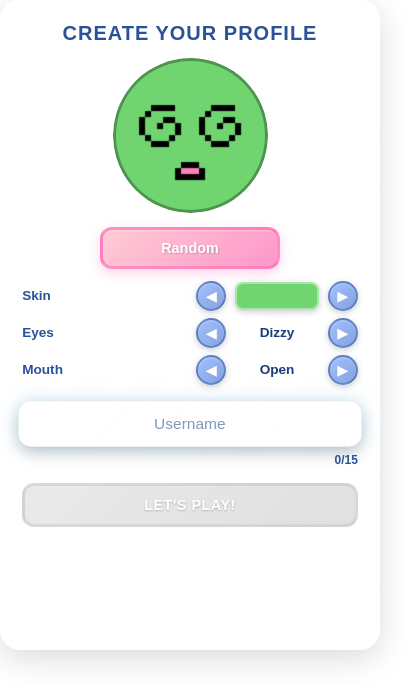
Test: ProfileMenu Component › Username Input › should clear validation errors when the username changes
This screenshot has width=406, height=684.
Press Enter in the field, box top-left (19, 402), bottom-right (361, 447)
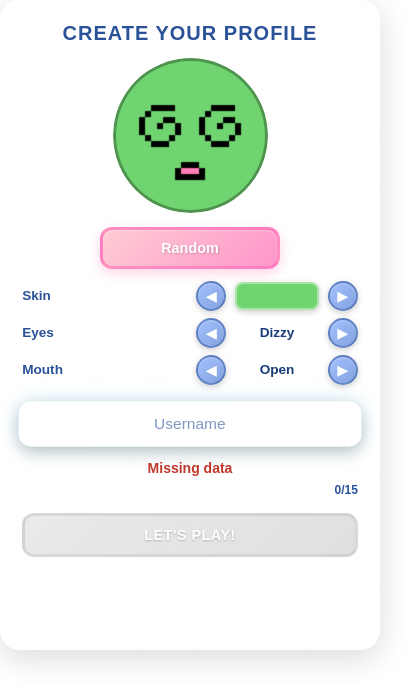
Check: the text "Missing data" is shown, box top-left (148, 460), bottom-right (232, 476)
Type "FixedUser" into the field at coordinates (190, 424), box top-left (19, 402), bottom-right (361, 447)
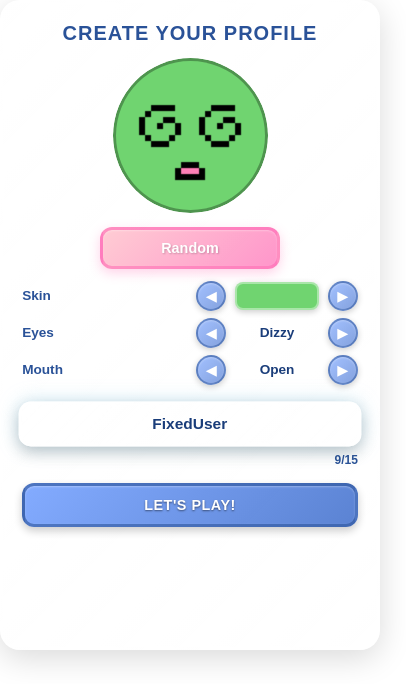
Check: the text "Missing data" is gone
